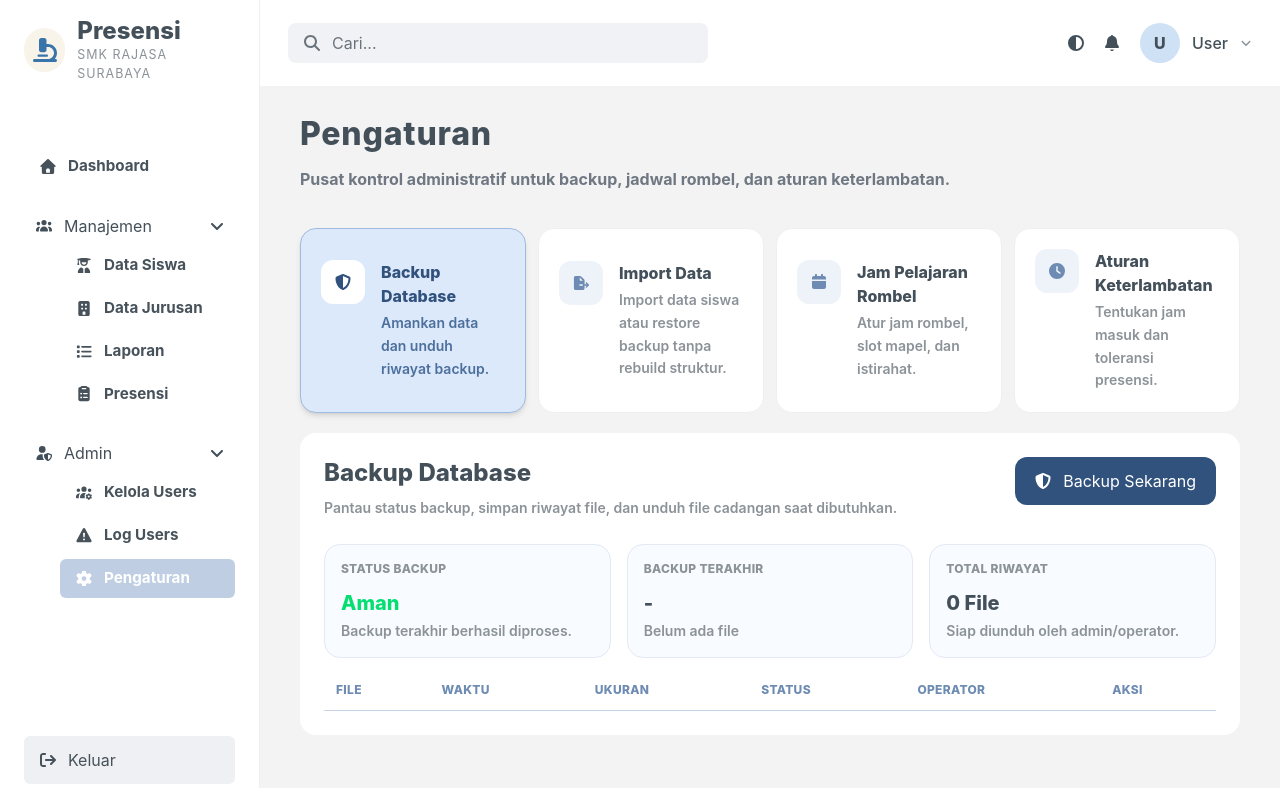
Test: pengaturan management page › renders rombel schedule editor and adds mapel slot
What coordinates should you click on to do the following:
click the button "Jam Pelajaran Rombel"
I would click on:
 (889, 320)
Its box is [776,228,1002,413].
(page scrolled)
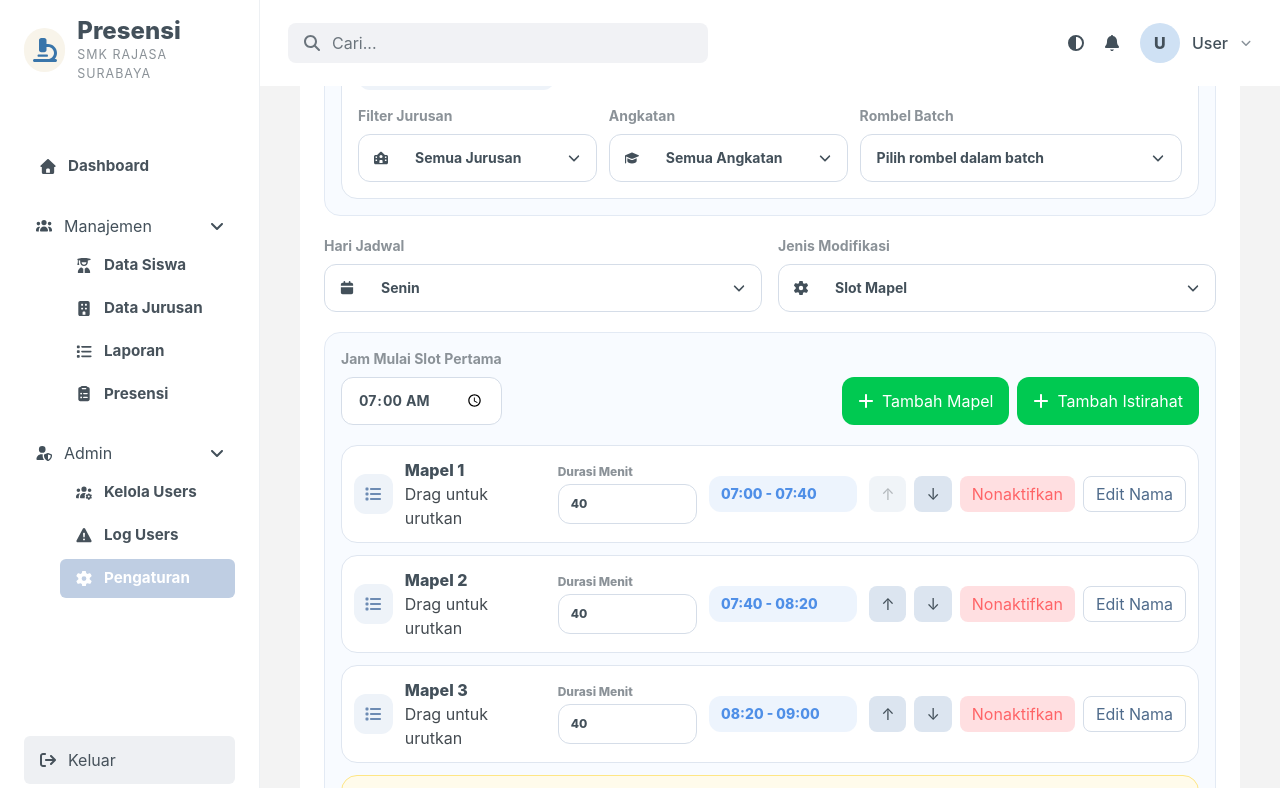
What coordinates should you click on to do the following:
click the button "Tambah Mapel"
I would click on:
 (926, 401)
Its box is [842,377,1009,425].
(page scrolled)
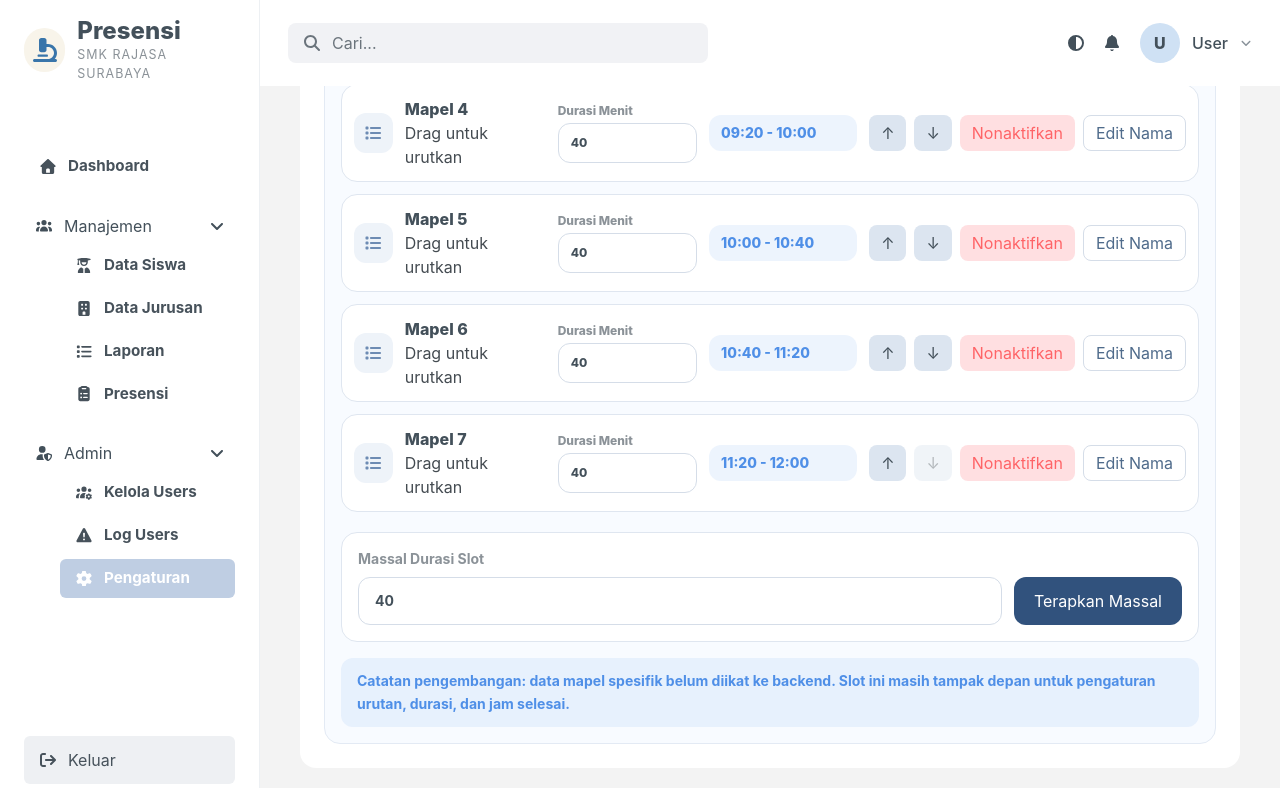
Expected: the text "Mapel 7" is shown, [405,429,467,449]
